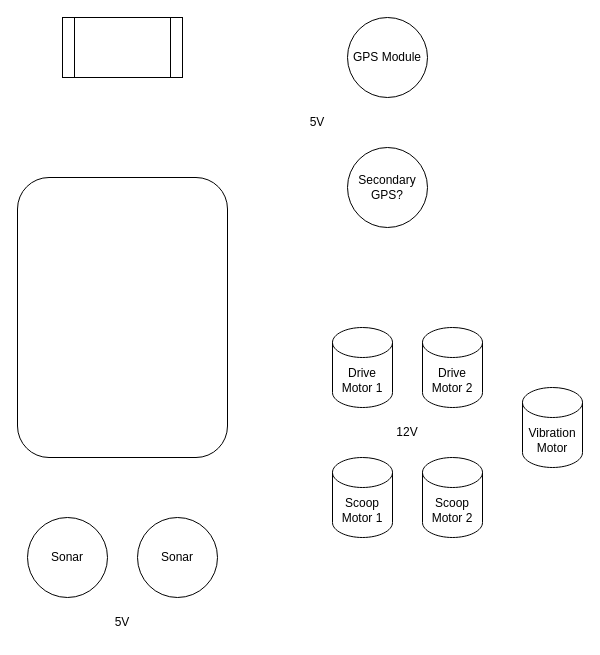
Some shapes in this 600 by 655 pixel diagram are drawn without their labels. Each missing label, with the centre of its shape:
"12V Battery" belongs at pixel 122 47.
"Cube Orange" belongs at pixel 122 317.
